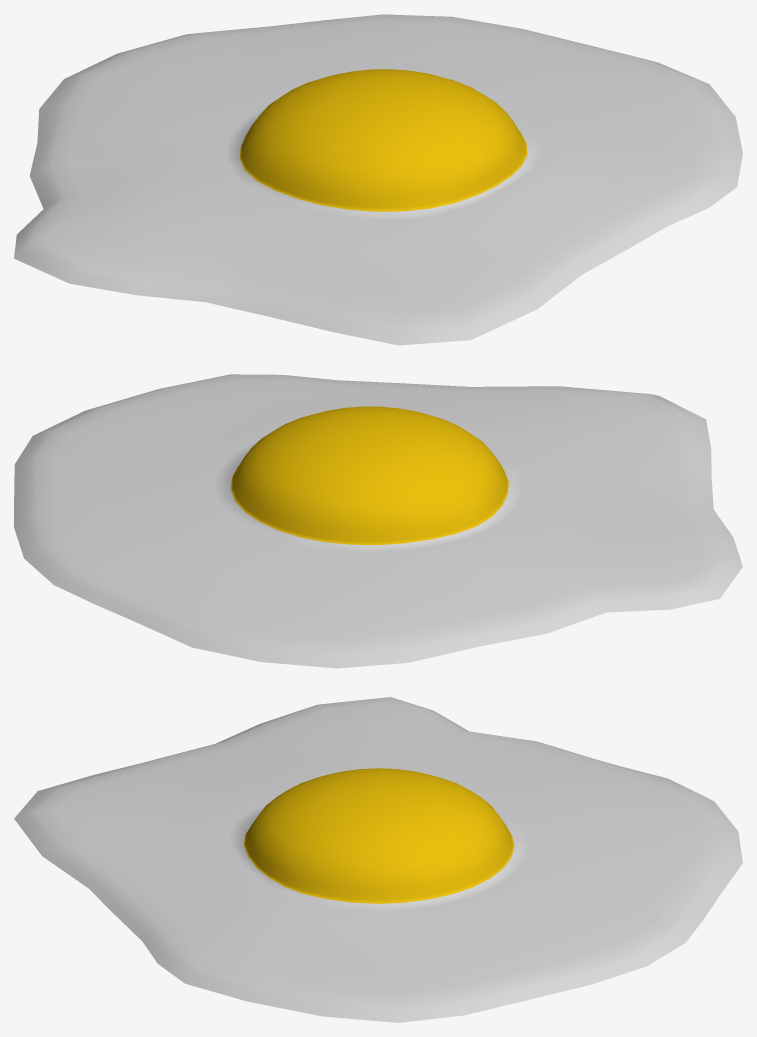
Rendered from EggOverE6.fbx.
3 renders of one model, top to bottom at view 1: azimuth 30°, elevation 25°; view 2: azimuth 150°, elevation 25°; view 3: azimuth 270°, elevation 25°, orthographic. The views are drawn at different scales.
Parts seen in each view (by area): view 1: Sphere.021; view 2: Sphere.021; view 3: Sphere.021.
Part boxes in pixels (left/top/right/bottom): Sphere.021: left=14, top=14, right=742, bottom=345; Sphere.021: left=14, top=374, right=742, bottom=668; Sphere.021: left=14, top=697, right=742, bottom=1022.
Size of the model in its own units: 559 by 61.24 by 531.
